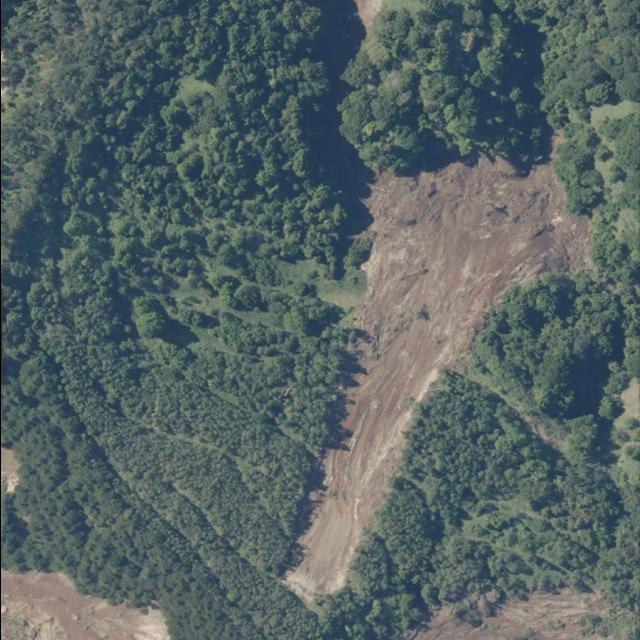landslide: (282, 155, 588, 602), (0, 571, 168, 640), (402, 589, 613, 640), (0, 448, 17, 492)
